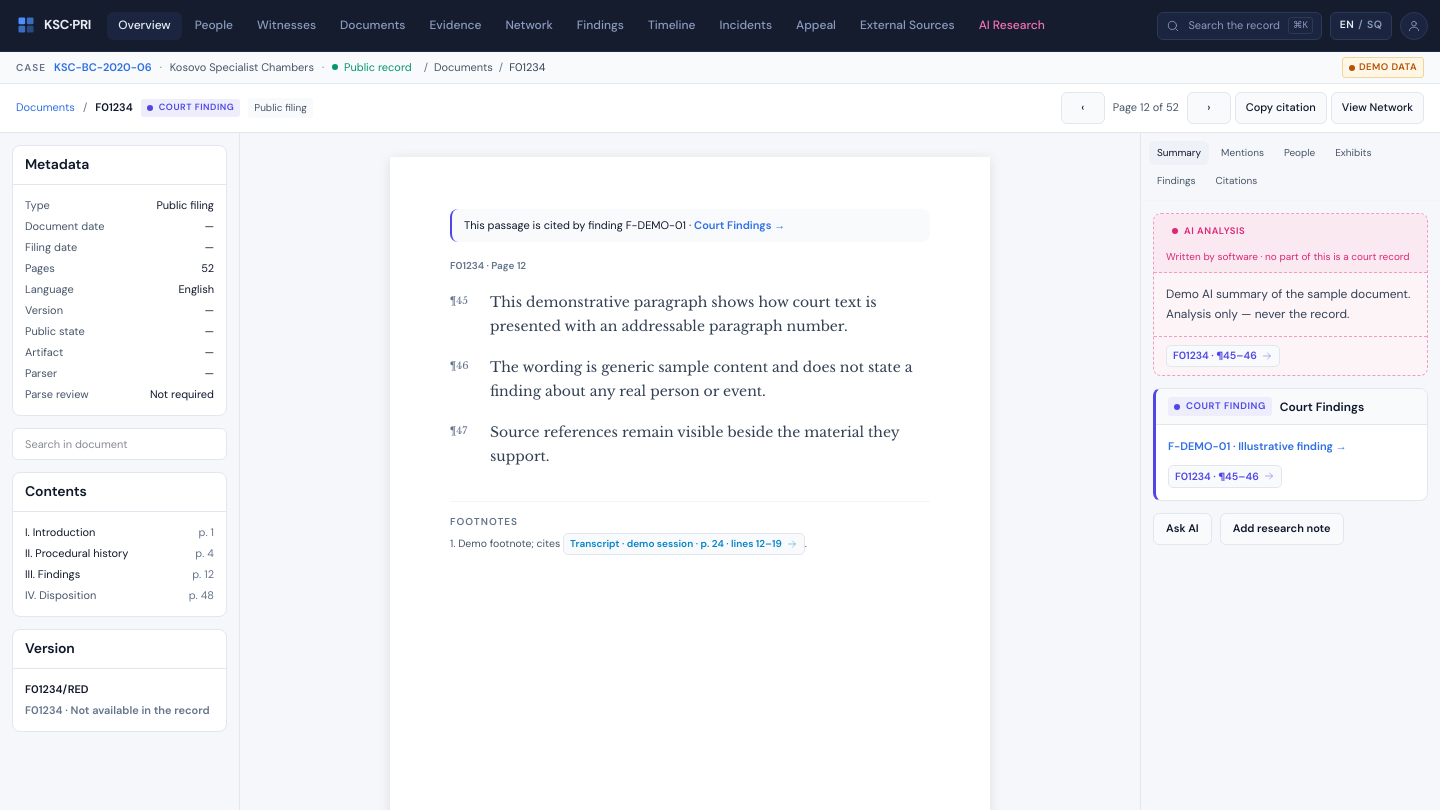
it: Phase 5B visual-parity remediation › document reader has the sidebar, pager, research tabs and cited banner
This screenshot has width=1440, height=810.
Expected: the text "Page 12 of 52" is shown, [1109, 100, 1183, 116]
Click the button named "Next" at (1209, 108), box [1187, 92, 1231, 124]
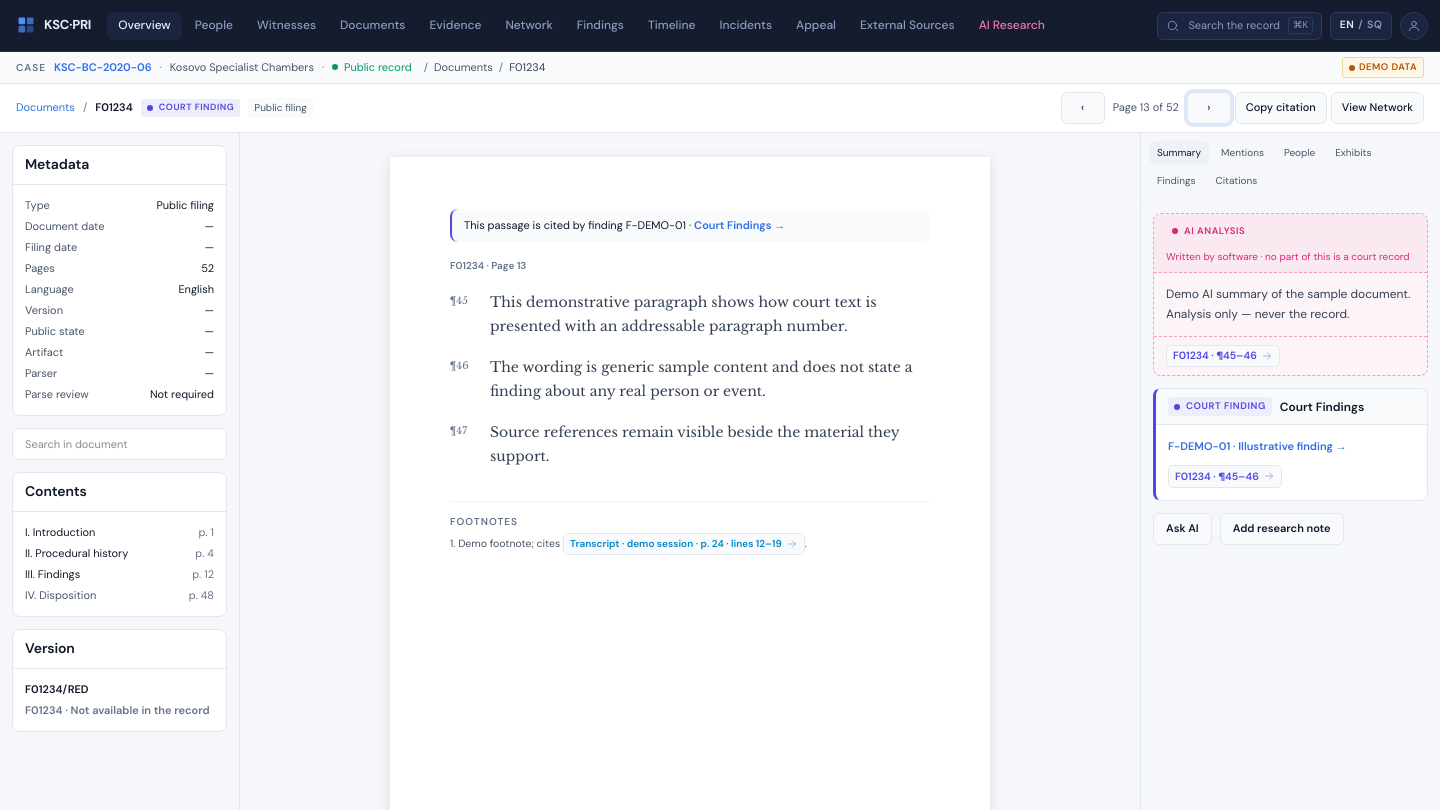
Expected: the text "Page 13 of 52" is shown, [1109, 100, 1183, 116]
Click the tab "Citations" at (1236, 180), box [1208, 168, 1265, 192]
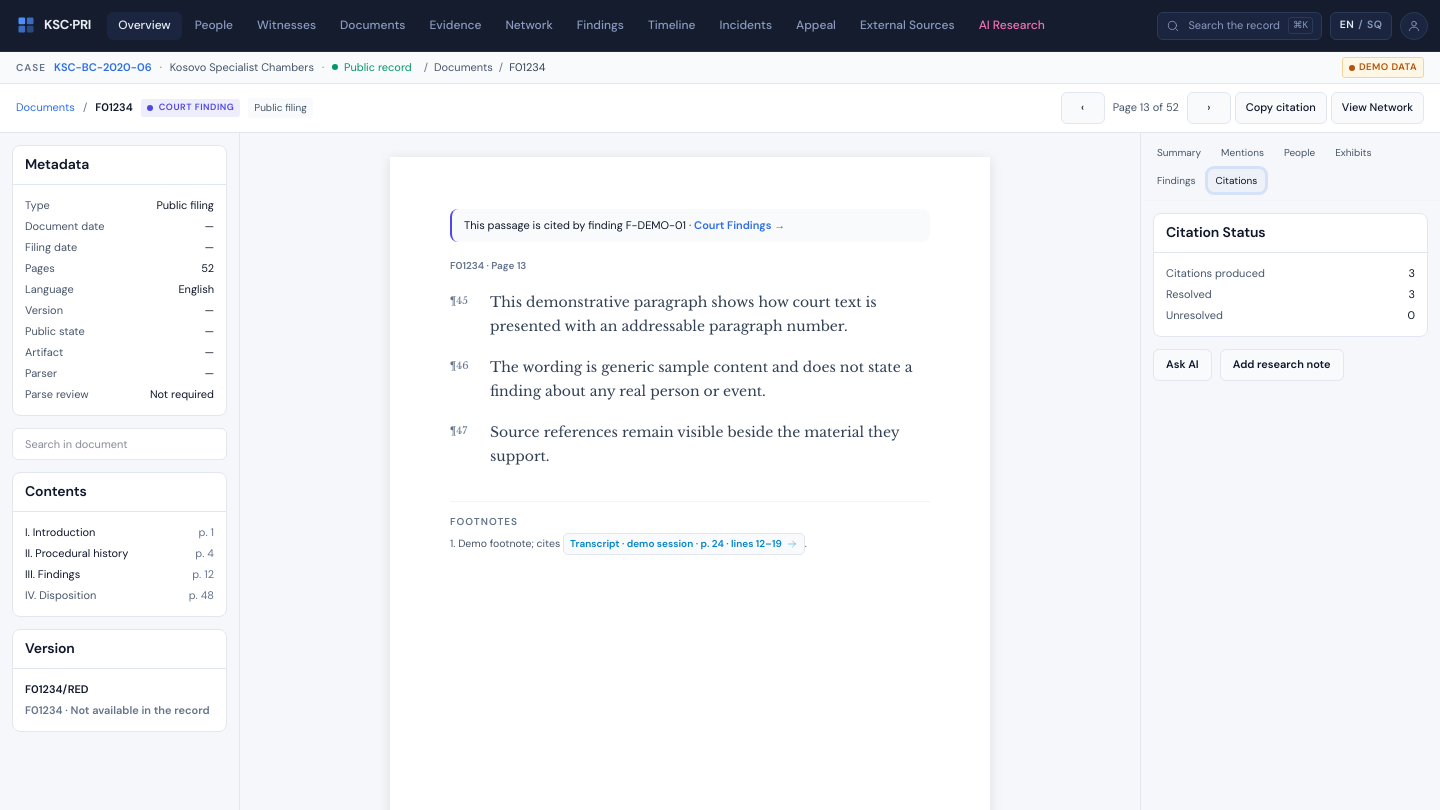
Expected: the text "cited by finding F-DEMO-01" is shown, [464, 218, 686, 232]
Expected: the text "Citations produced" is shown, [1166, 266, 1265, 280]
